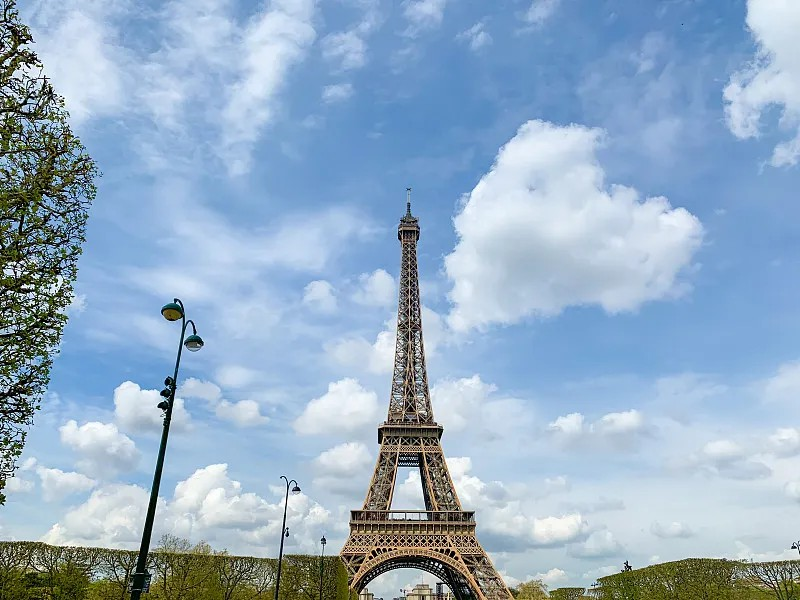Eiffel: (339, 188, 514, 598)
